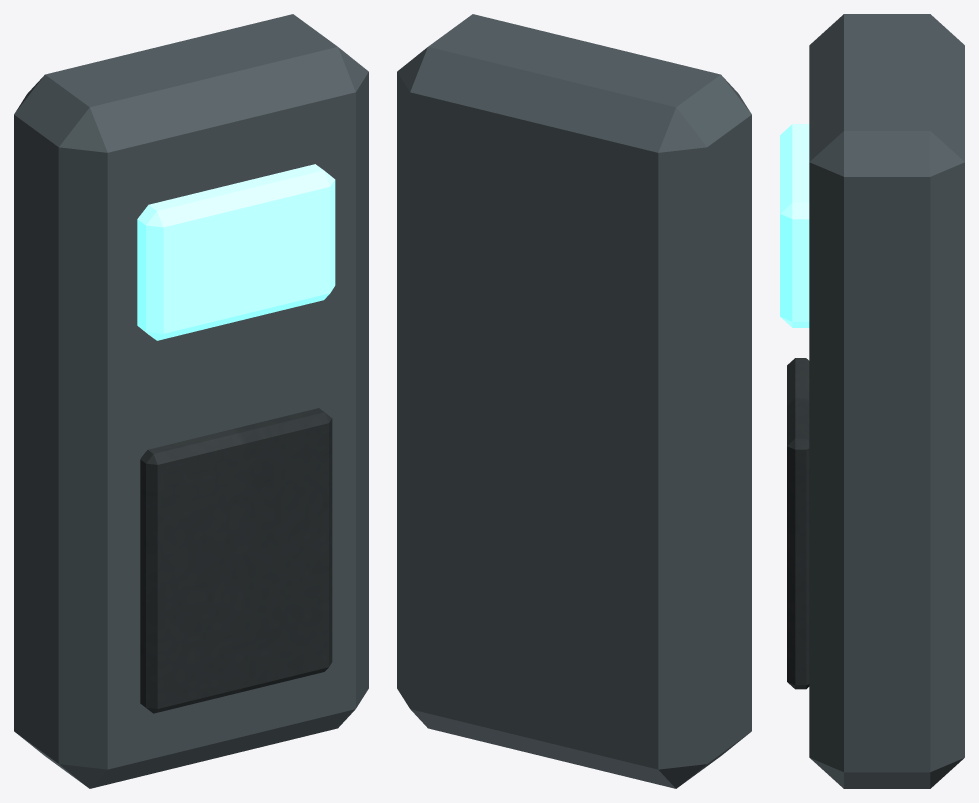
File: BadgeReader.glb
The picture shows the model from 3 angles, left to right: view 1: azimuth 30°, elevation 25°; view 2: azimuth 150°, elevation 25°; view 3: azimuth 270°, elevation 25°; orthographic projection. The views are drawn at different scales.
Parts seen in each view (by area): view 1: BadgeReader__BlackenedSteel__mesh, BadgeReader__Powdercoat__mesh, BadgeReader__DGGreen__mesh; view 2: BadgeReader__BlackenedSteel__mesh; view 3: BadgeReader__BlackenedSteel__mesh, BadgeReader__Powdercoat__mesh, BadgeReader__DGGreen__mesh.
Part boxes in pixels (box(x1,y1,x2,y2)): BadgeReader__BlackenedSteel__mesh: box(14, 14, 368, 788); BadgeReader__Powdercoat__mesh: box(140, 408, 332, 713); BadgeReader__DGGreen__mesh: box(137, 164, 335, 340); BadgeReader__BlackenedSteel__mesh: box(397, 14, 751, 788); BadgeReader__BlackenedSteel__mesh: box(809, 14, 964, 788); BadgeReader__Powdercoat__mesh: box(787, 358, 809, 689); BadgeReader__DGGreen__mesh: box(780, 124, 809, 327).
Bounding box in the file's own units: 0.1 × 0.21 × 0.0535.
Materials: 3 (1 with a texture image).
